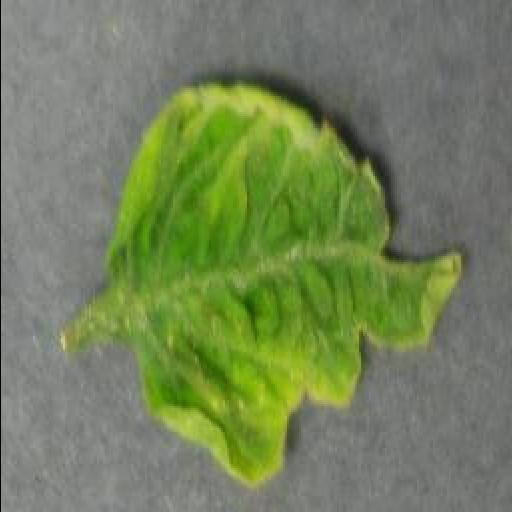disease_tomato: (104, 78, 466, 486)
